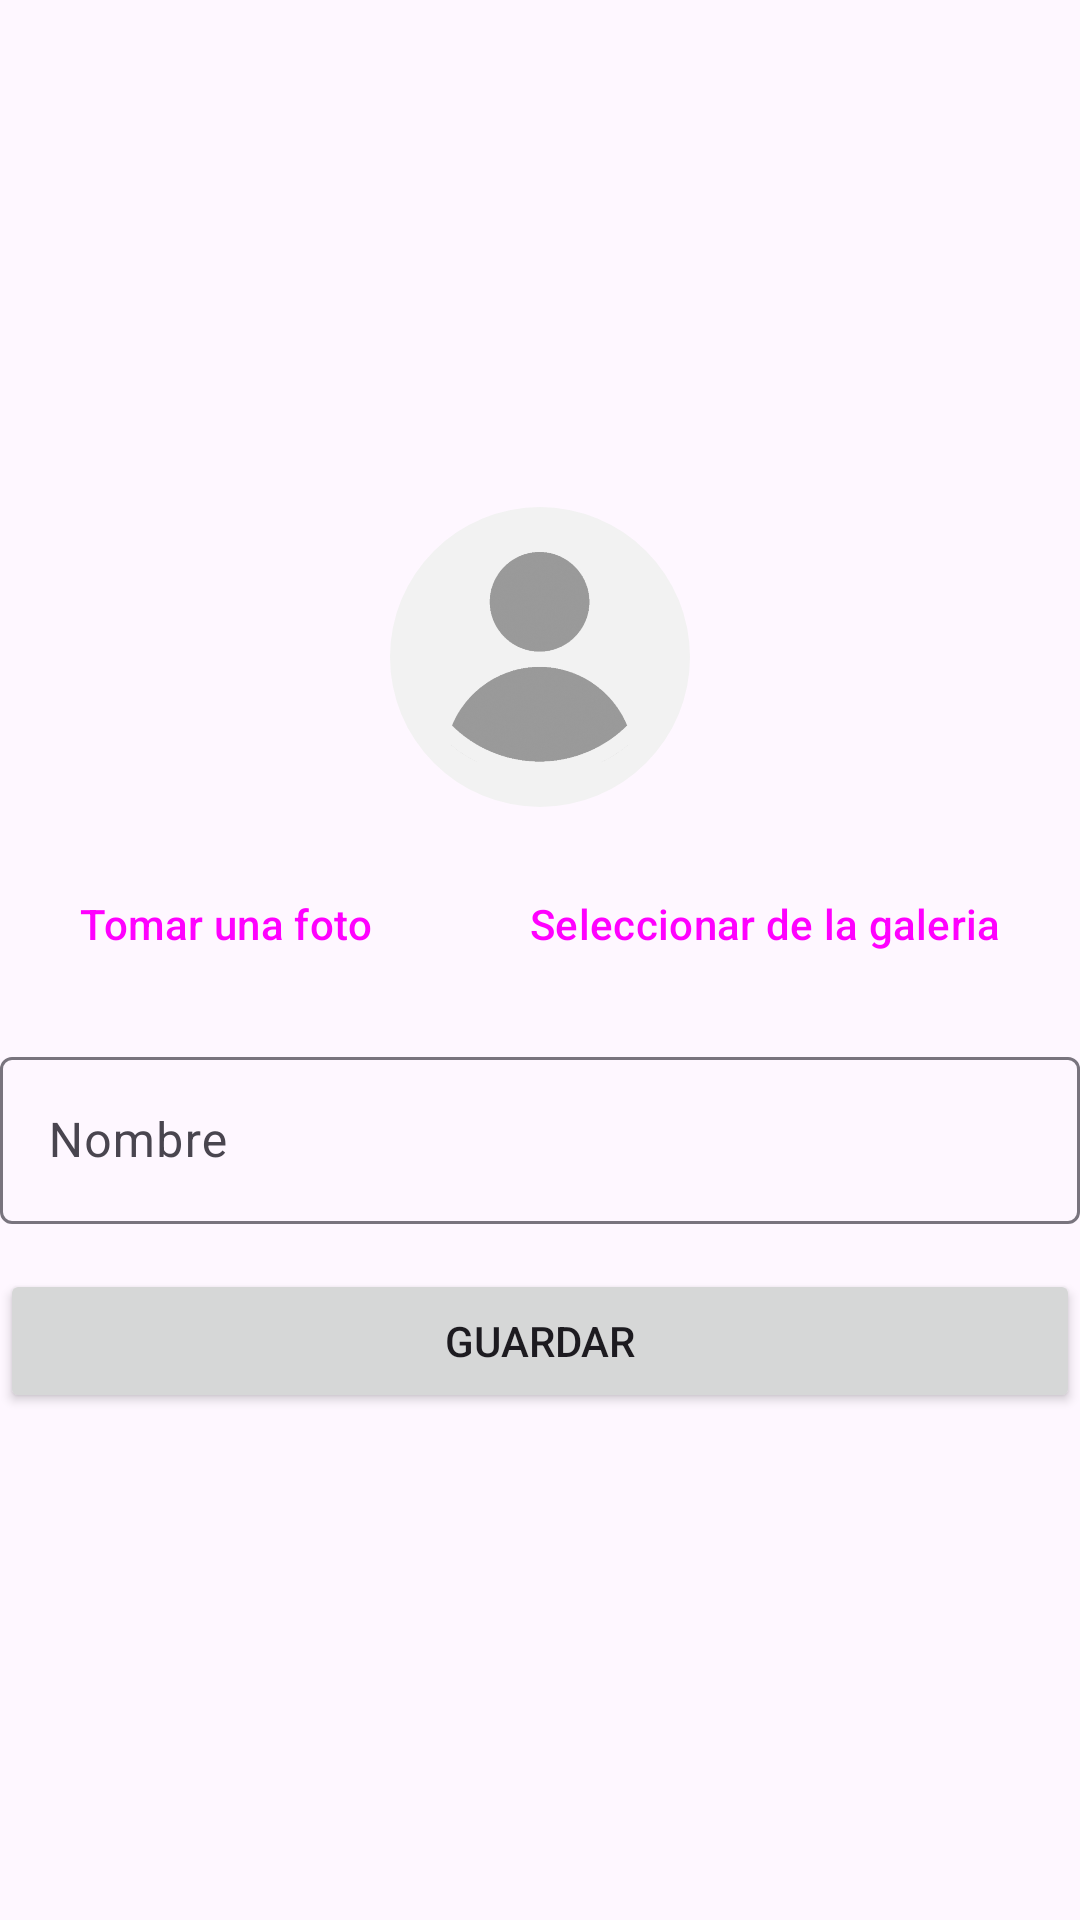

Icon click points for this 1080px x 1920px phone screenshot, format (x=x, y=y):
user: (x=539, y=657)
